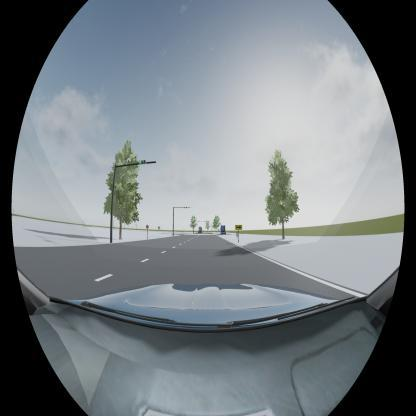Green Light: (138, 158, 148, 166)
